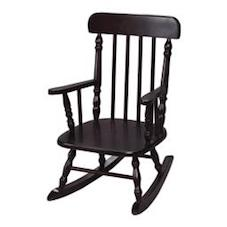chair: (19, 3, 195, 217)
